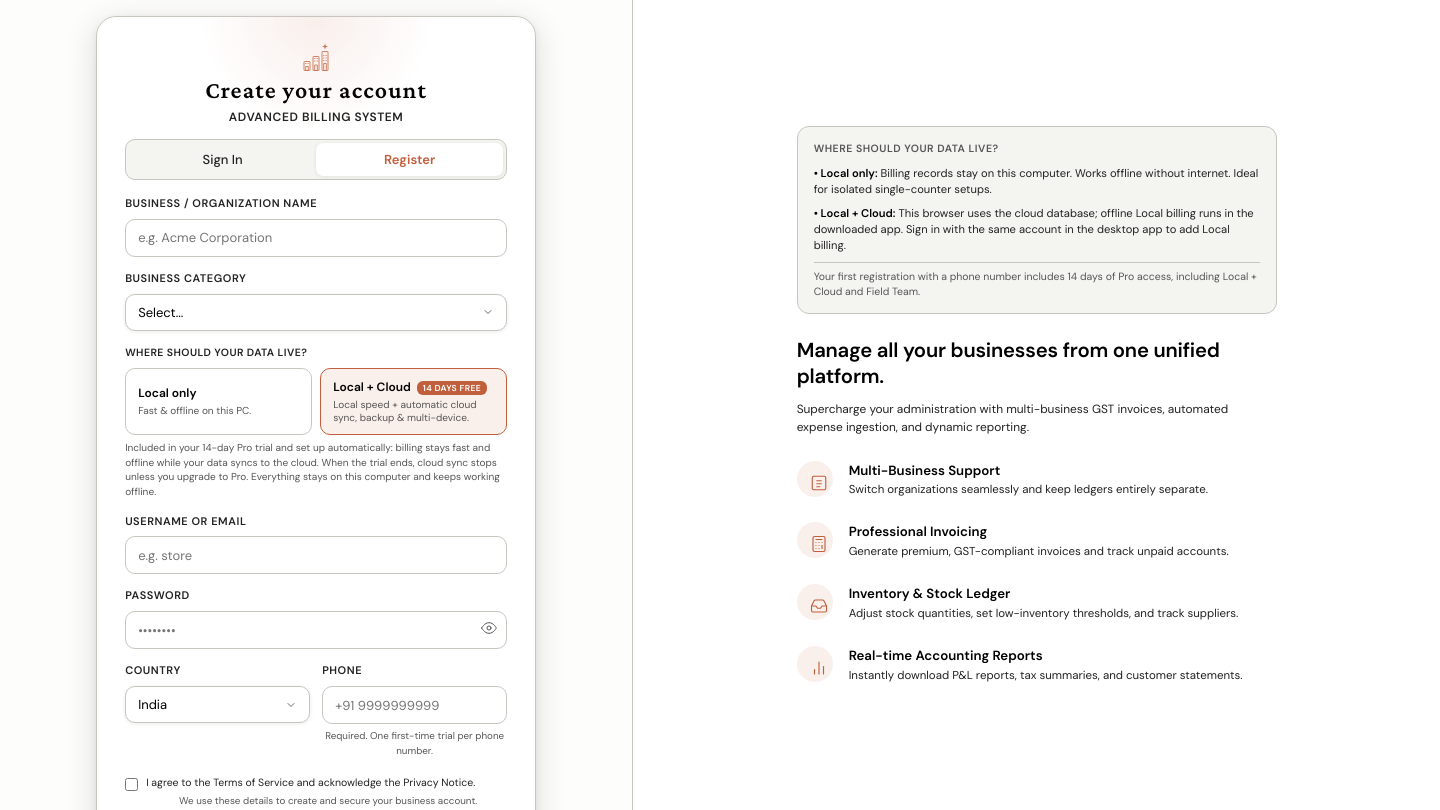
Test: Pro trial and Local + Cloud (T6) › Register preselects Local + Cloud during the trial and explains what happens after it
The image size is (1440, 810).
Expected: the text "14 DAYS FREE" is shown, [417,381,487,395]
Expected: the text "When the trial ends, cloud sync stops unless you upgrade to Pro" is shown, [125,441,500,498]
Click the button "Local only Fast & offline on this PC.".
click(219, 402)  # box [125,368,312,435]
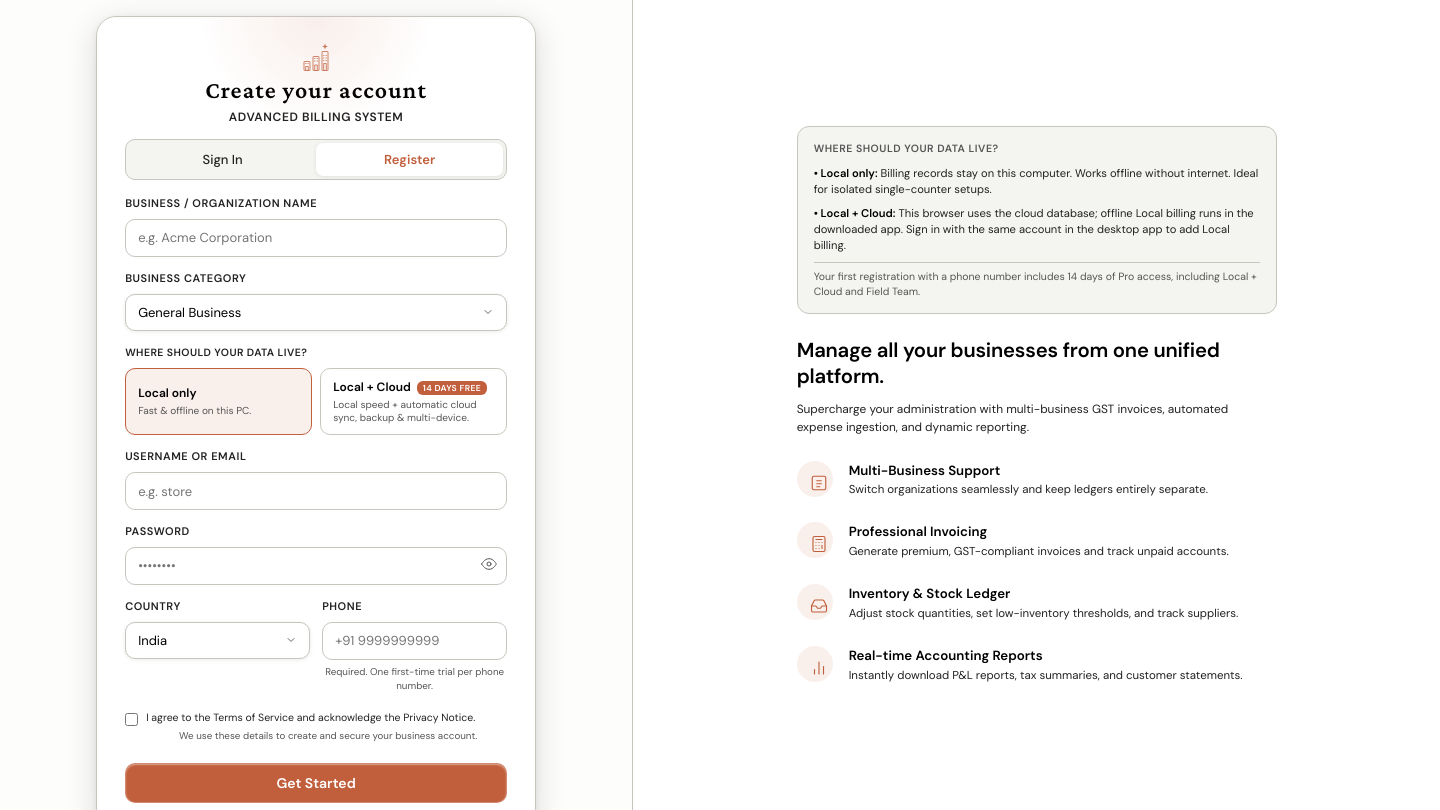
Expected: the text "Included in your 14-day Pro trial" is gone
